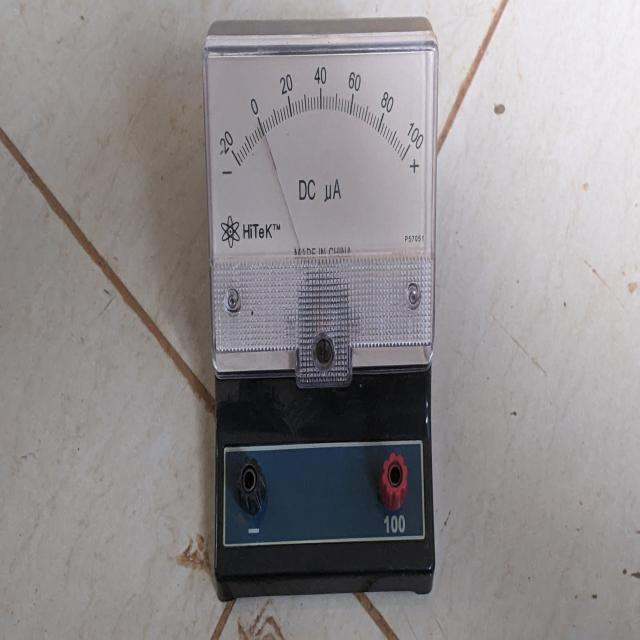Ammeter Analog: (198, 11, 447, 604)
